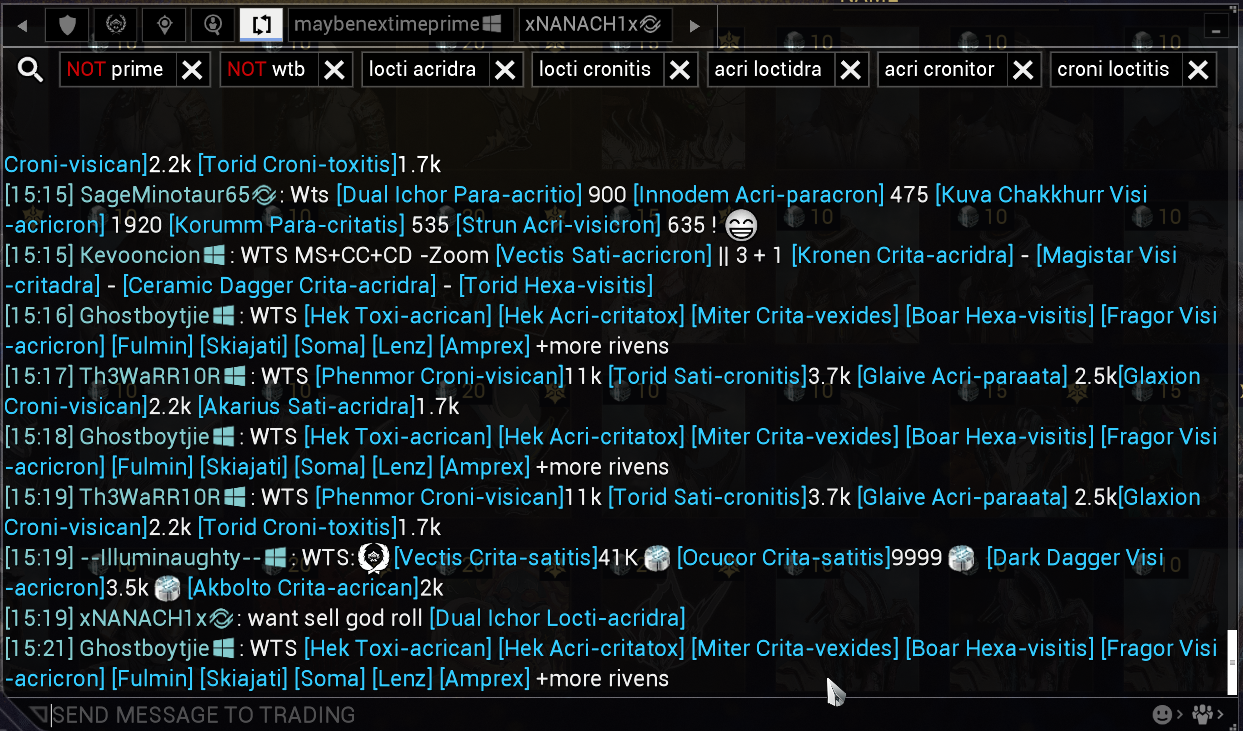link: (122, 272, 440, 300), (427, 603, 689, 635), (632, 179, 887, 211), (314, 484, 566, 516), (313, 361, 567, 392), (334, 180, 584, 210), (166, 210, 406, 240), (495, 240, 714, 272), (690, 301, 900, 334), (607, 359, 809, 393), (689, 422, 901, 454), (690, 633, 900, 665), (188, 574, 421, 602), (854, 363, 1070, 392), (197, 513, 399, 544), (791, 242, 1014, 270), (903, 634, 1097, 666), (197, 393, 418, 421), (851, 484, 1071, 512), (301, 301, 493, 333), (675, 544, 893, 572), (498, 301, 684, 333), (196, 150, 399, 179), (454, 212, 664, 240), (935, 180, 1152, 207), (905, 301, 1094, 332), (606, 483, 808, 512), (982, 541, 1166, 572), (392, 546, 601, 573), (498, 423, 686, 453), (905, 422, 1093, 452), (301, 635, 493, 664), (458, 272, 655, 299), (497, 636, 686, 664), (302, 423, 492, 449), (1, 389, 149, 421), (1035, 241, 1182, 272), (5, 514, 148, 543), (1099, 420, 1220, 454), (3, 151, 147, 179), (1101, 301, 1220, 333), (1099, 633, 1220, 660), (5, 573, 108, 604), (4, 666, 105, 690)
